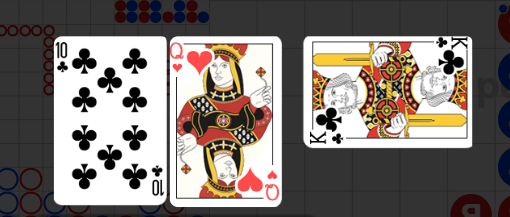10C: (149, 163, 164, 197)
KC: (308, 127, 348, 146), (432, 36, 468, 51)
